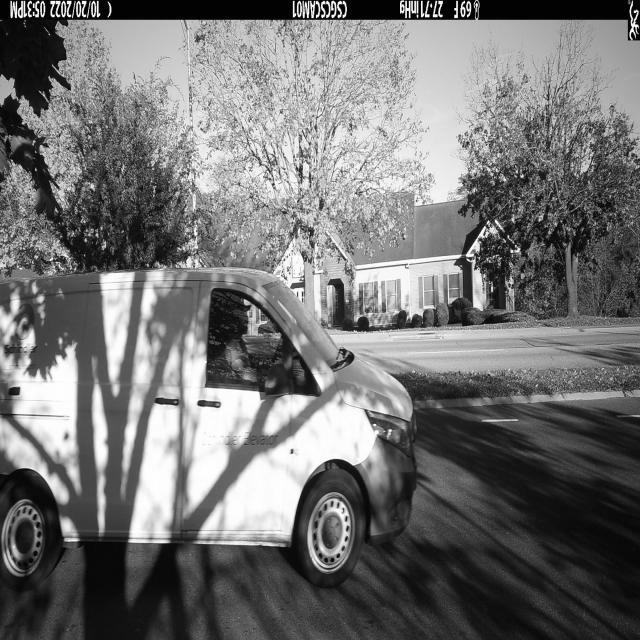Van: (0, 268, 418, 591)
